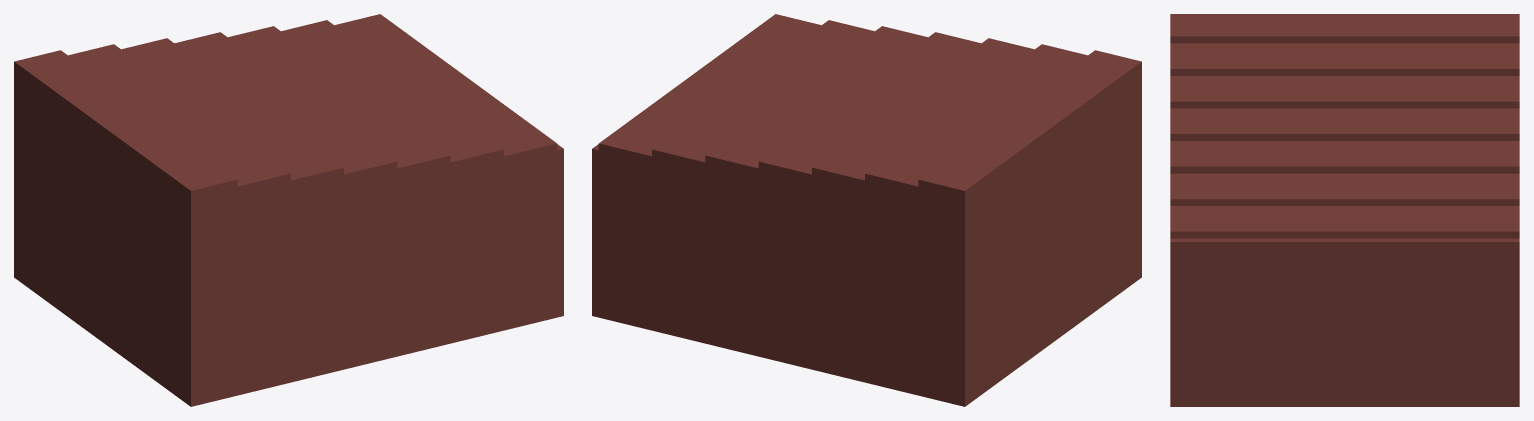
The model's file is semi_tractor_bonnet.glb.
The picture shows the model from 3 angles, left to right: view 1: azimuth 30°, elevation 25°; view 2: azimuth 150°, elevation 25°; view 3: azimuth 270°, elevation 25°; orthographic projection.
Visible parts, largest first — view 1: body:compound; view 2: body:compound; view 3: body:compound.
Boxes of the visible parts, x1,y1,x2,y2 form: body:compound: (14,14,563,406); body:compound: (592,14,1141,406); body:compound: (1170,14,1519,406).
Size of the model in its own units: 1.75 by 0.9688 by 1.44.
